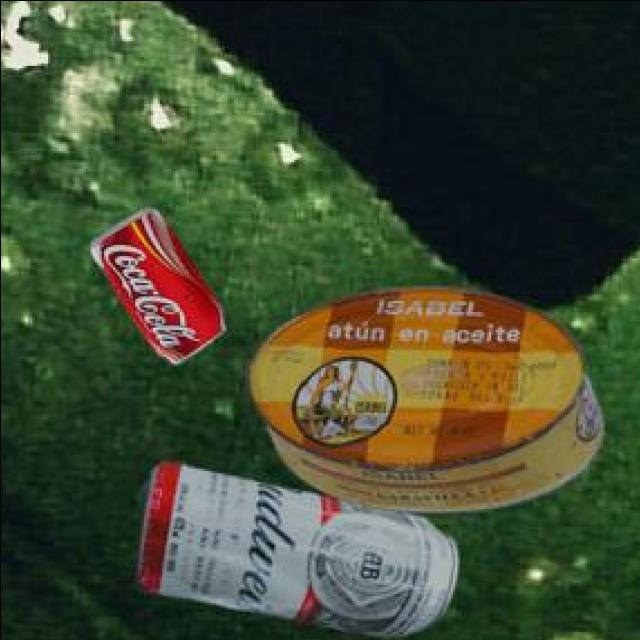logam: (250, 290, 605, 516), (138, 464, 460, 639), (93, 209, 227, 366)
